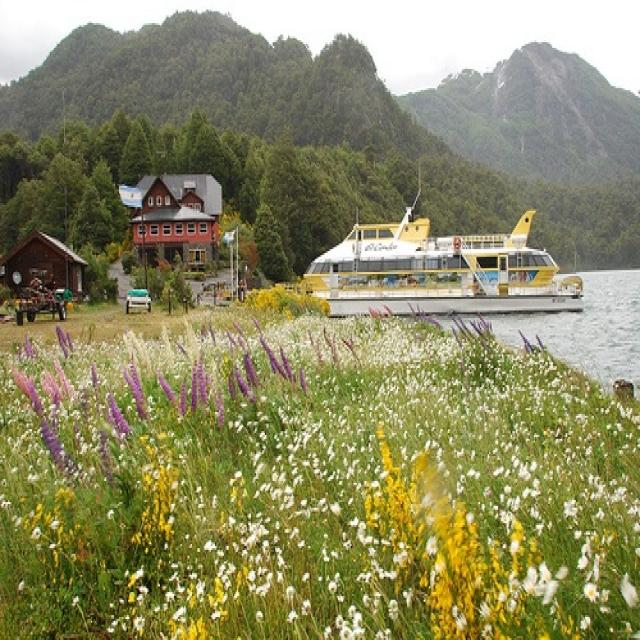boat: (302, 207, 586, 318)
